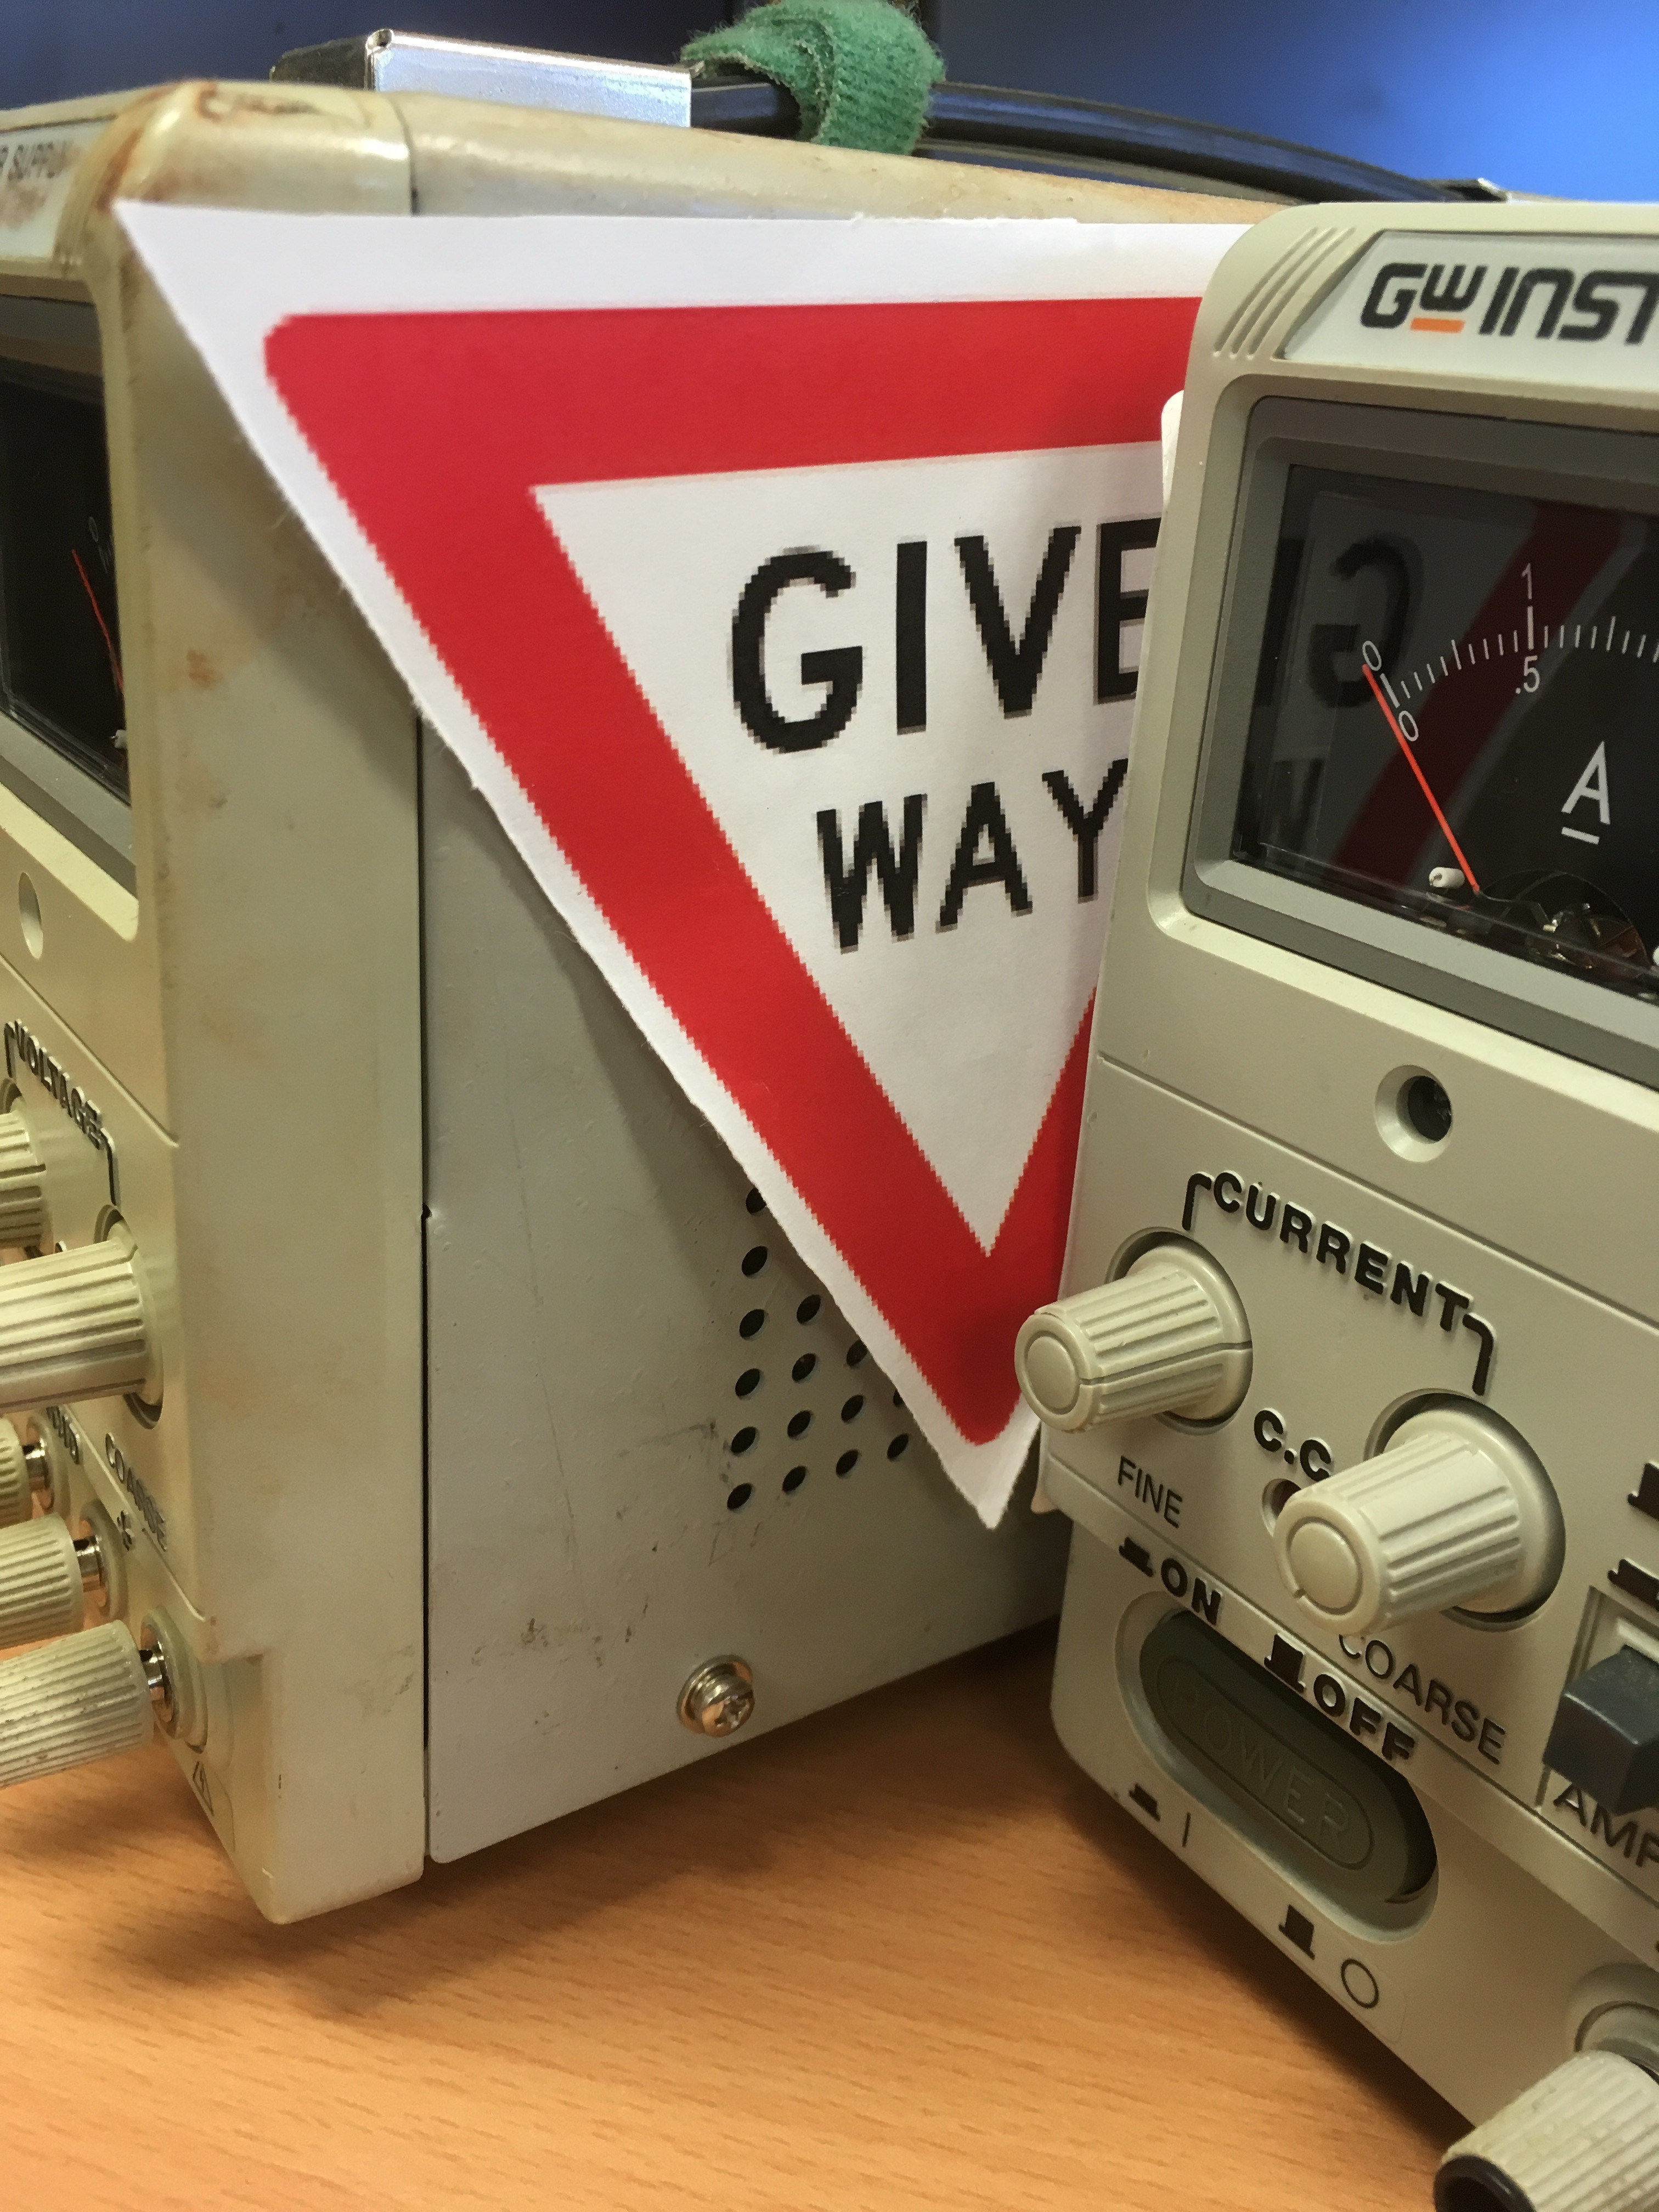giveway: (246, 307, 1152, 1493), (622, 314, 1208, 1482), (279, 317, 1107, 869), (873, 280, 1150, 1510)
